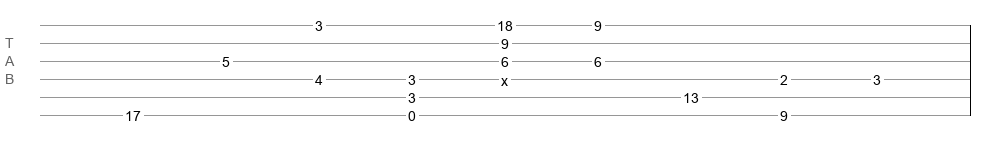0: (408, 108, 416, 118)
13: (683, 90, 699, 100)
17: (125, 108, 141, 118)
18: (497, 18, 513, 28)
2: (780, 72, 788, 82)
3: (315, 18, 323, 28), (408, 90, 416, 100), (408, 72, 416, 82), (873, 72, 881, 82)
4: (315, 72, 323, 82)
5: (222, 54, 230, 64)
6: (501, 54, 509, 64), (594, 54, 602, 64)
9: (501, 36, 509, 46), (594, 18, 602, 28), (780, 108, 788, 118)
x: (501, 73, 508, 81)
